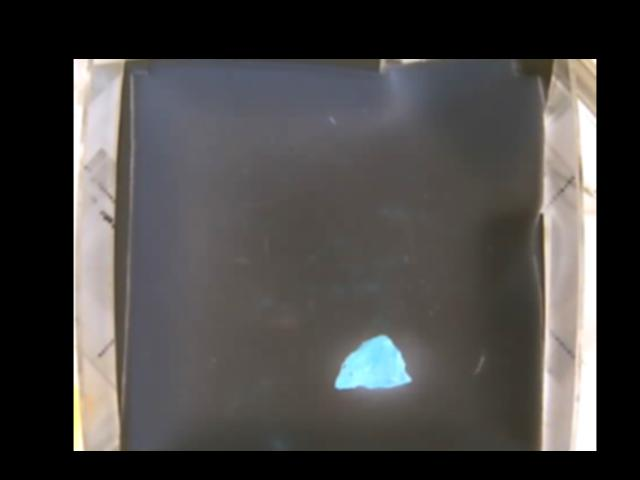Brisk: (334, 334, 414, 390)
